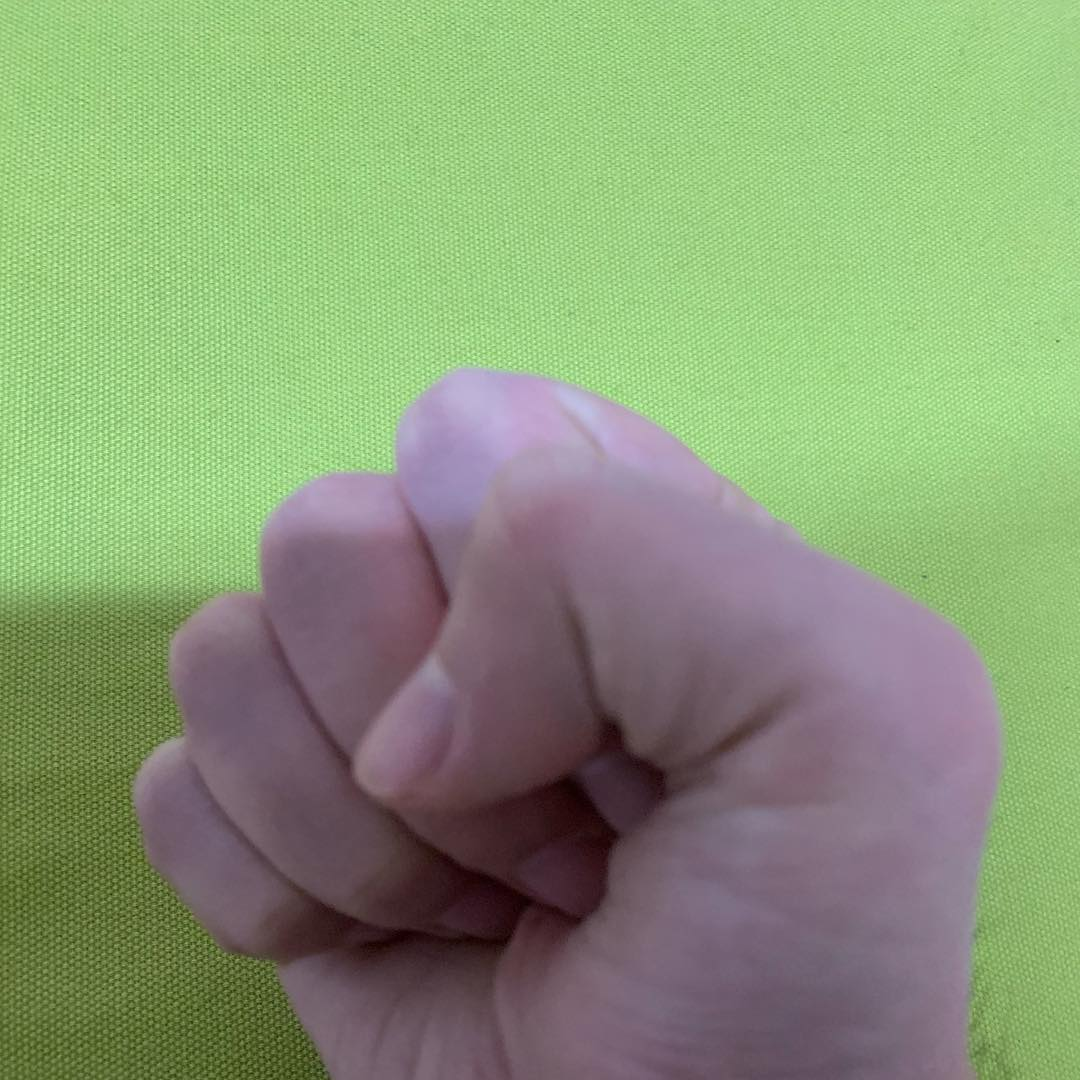hand: (150, 468, 819, 1063)
